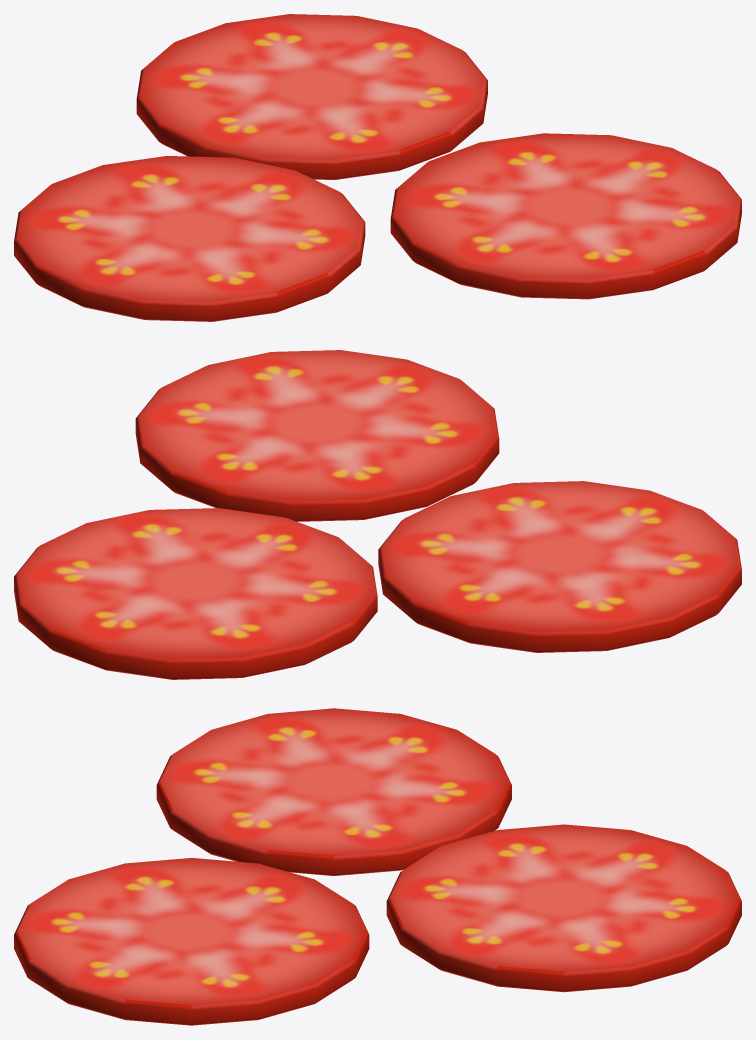
Rendered from TomatoSlices_Visual.glb.
3 views of the same model, one above another, from view 1: azimuth 30°, elevation 25°; view 2: azimuth 150°, elevation 25°; view 3: azimuth 270°, elevation 25° (orthographic). The views are drawn at different scales.
Parts seen in each view (by area): view 1: Tomato_slice; view 2: Tomato_slice; view 3: Tomato_slice.
Boxes of the visible parts, x1,y1,x2,y2 form: Tomato_slice: (14, 14, 741, 321); Tomato_slice: (14, 350, 741, 679); Tomato_slice: (14, 708, 741, 1025).
Bounding box in the file's own units: 0.6814 × 0.022 × 0.6994.
1 material, 1 textured.
